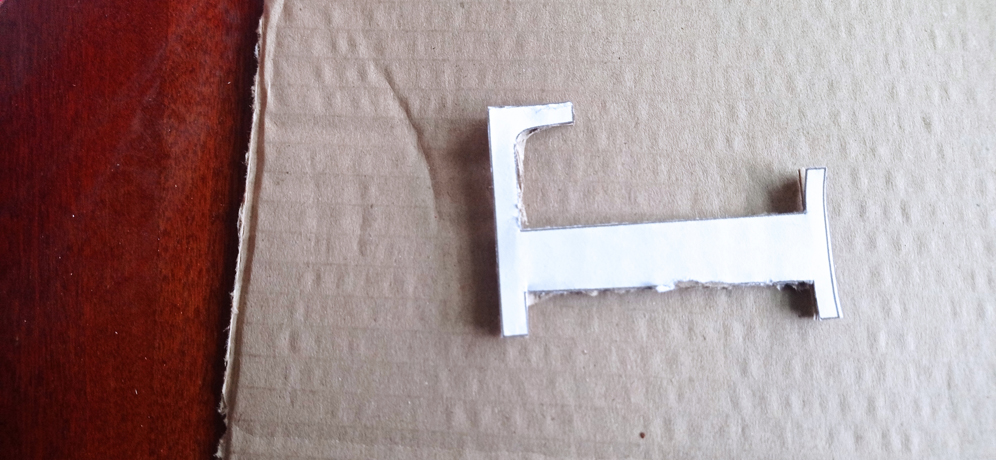g: (486, 100, 845, 339)
